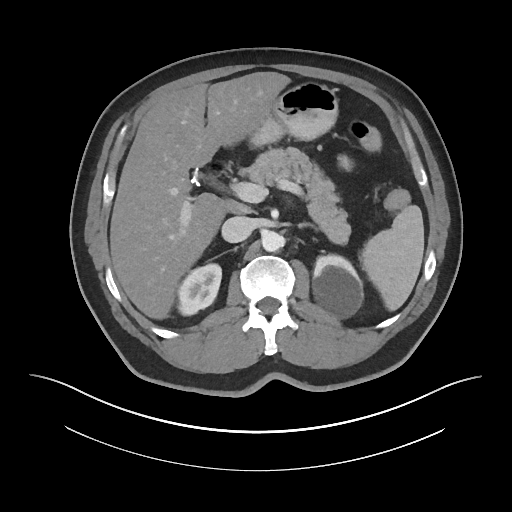Lesion: (308, 260, 364, 326)
